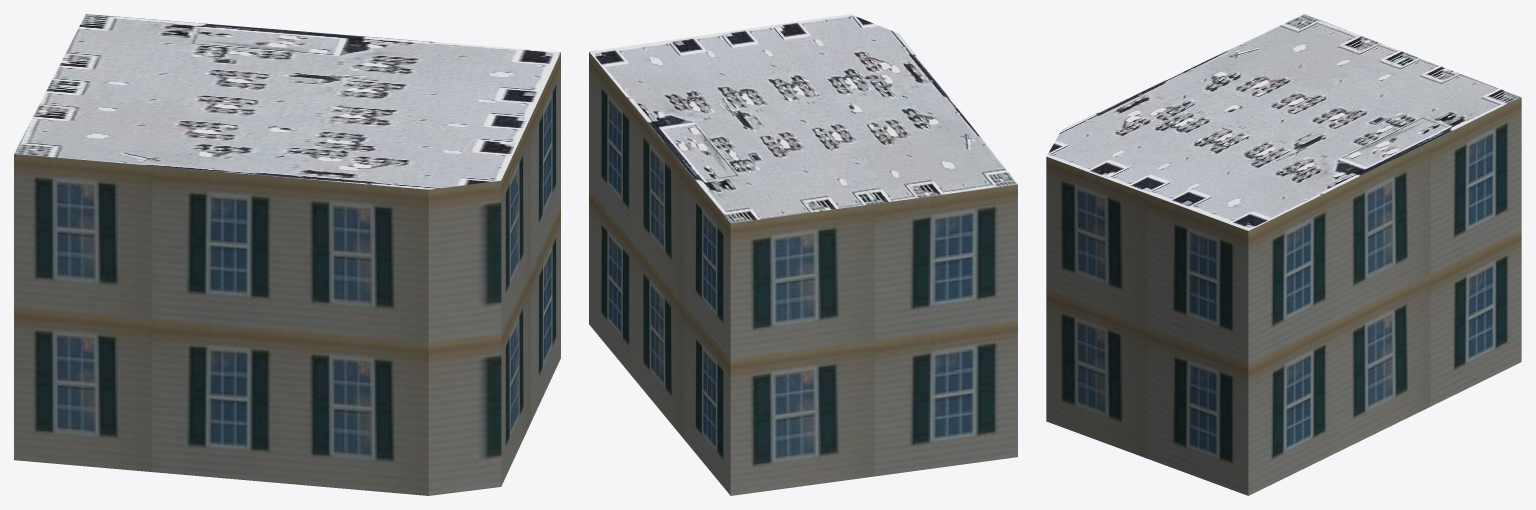
Rendered from ResTex__154.fbx.
3 views of the same model, side by side, from view 1: azimuth 30°, elevation 25°; view 2: azimuth 150°, elevation 25°; view 3: azimuth 270°, elevation 25° (orthographic). The views are drawn at different scales.
Visible parts, largest first — view 1: CityEngineMaterial_7_m, CityEngineMaterial_m; view 2: CityEngineMaterial_7_m, CityEngineMaterial_m; view 3: CityEngineMaterial_7_m, CityEngineMaterial_m.
Boxes of the visible parts, x1,y1,x2,y2 form: CityEngineMaterial_7_m: (14,52,560,495); CityEngineMaterial_m: (14,14,560,189); CityEngineMaterial_7_m: (589,52,1017,495); CityEngineMaterial_m: (589,14,1017,223); CityEngineMaterial_7_m: (1046,97,1521,495); CityEngineMaterial_m: (1046,14,1520,230).
Size of the model in its own units: 10.55 by 6 by 9.75.
Materials: 2 (2 with a texture image).
